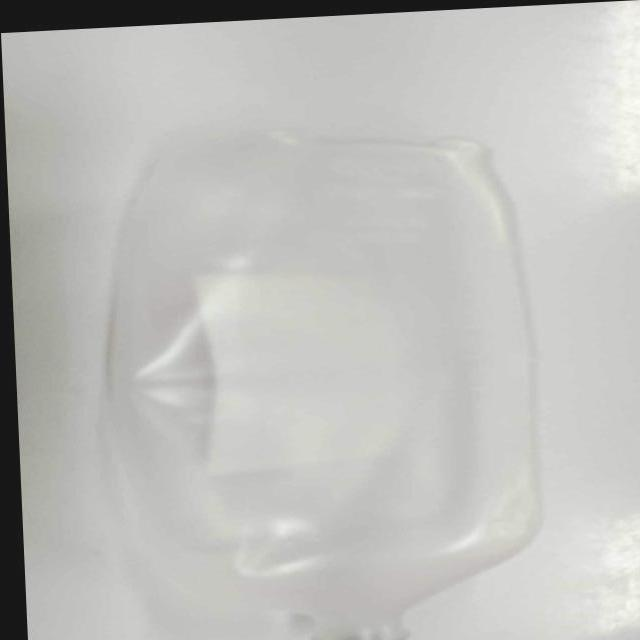Infectious: (107, 131, 545, 637)
